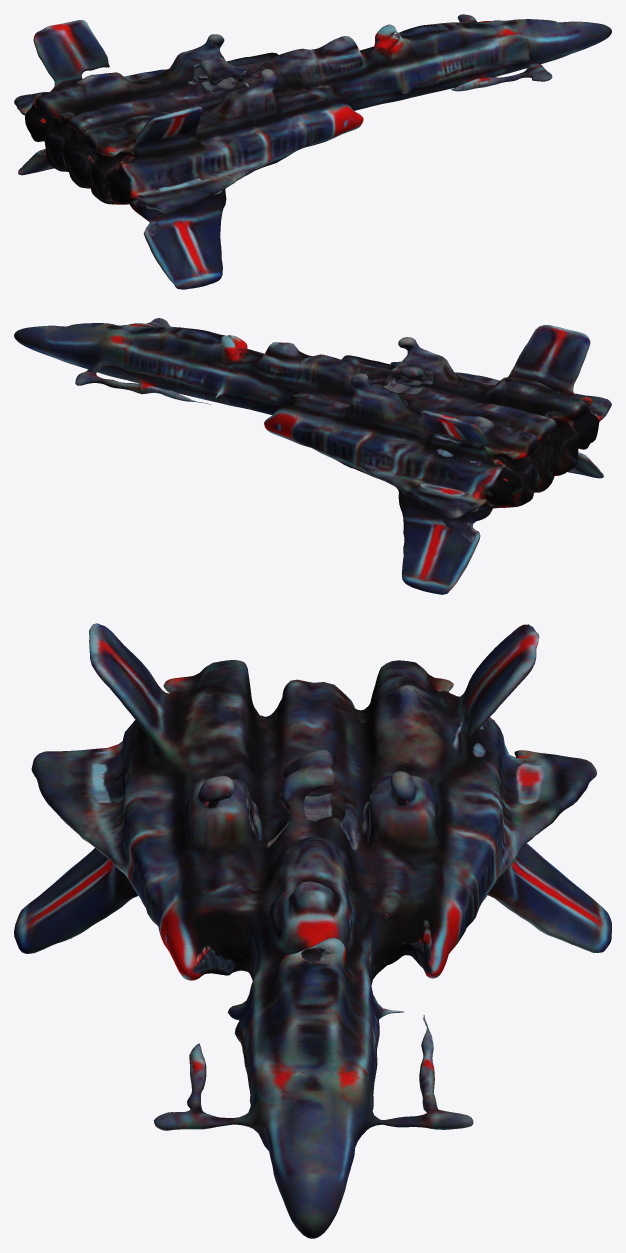
File: 32dcca63ce90__fighter_spaceship_.fbx
3 renders of one model, top to bottom at view 1: azimuth 30°, elevation 25°; view 2: azimuth 150°, elevation 25°; view 3: azimuth 270°, elevation 25°, orthographic. The views are drawn at different scales.
Parts seen in each view (by area): view 1: mesh; view 2: mesh; view 3: mesh.
Part boxes in pixels (x1=…): mesh: x1=14, y1=14, x2=611, y2=289; mesh: x1=14, y1=318, x2=611, y2=594; mesh: x1=14, y1=623, x2=611, y2=1238.
Size of the model in its own units: 99.55 by 27.98 by 51.41.
